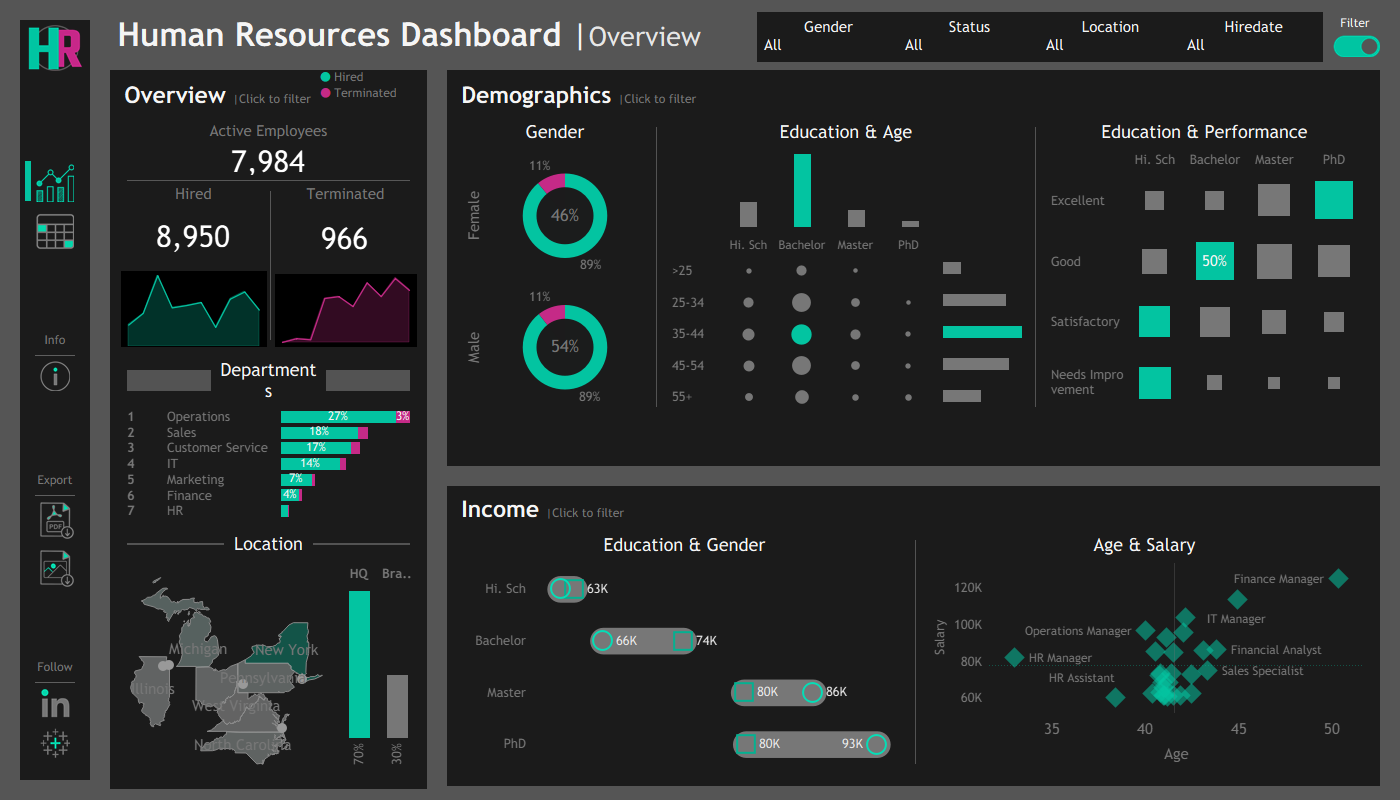

The page's visual inventory and layout, read from the dashboard file:
{"tool":"tableau","page":{"name":"HR Summary","canvas":[1400,800],"ordinal":1},"visuals":[{"type":"blank","box":[90,0,1309,253]},{"type":"text","box":[110,0,691,70]},{"type":"blank","box":[801,0,579,70]},{"type":"text","box":[1322,11,66,23]},{"type":"filter","title":"Gender vs Education level","param":"[federated.0gxnxt309b7uir1dyupve01mllud].[none:Gender:nk]","box":[758,13,141,48]},{"type":"filter","title":"Gender vs Education level","param":"[federated.0gxnxt309b7uir1dyupve01mllud].[none:Calculation_595882536475656192:nk","box":[899,13,141,48]},{"type":"filter","title":"Gender vs Education level","param":"[federated.0gxnxt309b7uir1dyupve01mllud].[none:Calculation_444167523388203008:nk","box":[1040,13,141,48]},{"type":"filter","title":"Gender vs Education level","param":"[federated.0gxnxt309b7uir1dyupve01mllud].[yr:Hiredate:ok]","box":[1181,13,141,48]},{"type":"image","param":"Image/Logo.png","box":[20,20,70,55]},{"type":"dashboard-object","box":[1333,22,47,48]},{"type":"text","box":[317,70,100,32]},{"type":"text","box":[117,77,303,35]},{"type":"text","box":[454,77,919,35]},{"type":"blank","box":[30,85,50,79.3]},{"type":"text","box":[117,112,303,32]},{"type":"text","box":[459,117,192,29]},{"type":"blank","box":[656,117,1,300]},{"type":"text","box":[662,117,368,29]},{"type":"blank","box":[1035,117,1,300]},{"type":"text","box":[1041,117,327,29]},{"type":"worksheet","title":"active","mark":"Automatic","box":[117,144,303,36]},{"type":"worksheet","title":"Gender","mark":"Pie","rows":["Gender"],"cols":["Calculation_444167523393875972","Calculation_444167523393875972"],"box":[459,146,192,271]},{"type":"worksheet","title":"Education Levels","mark":"Bar","rows":["Calculation_990228977867206656"],"cols":["Education Level"],"box":[662,146,368,85]},{"type":"worksheet","title":"Education vs Performance","mark":"Square","rows":["Performance Rating"],"cols":["Education Level"],"box":[1041,146,327,271]},{"type":"blank","box":[25,161,6,40]},{"type":"dashboard-object","box":[30,164.3,50,38]},{"type":"blank","box":[117,180,303,1]},{"type":"text","box":[117,181,153,26]},{"type":"blank","box":[270,181,1,169]},{"type":"text","box":[271,181,149,26]},{"type":"blank","box":[30,202.3,50,10]},{"type":"worksheet","title":"hired","mark":"Automatic","box":[117,207,153,60]},{"type":"worksheet","title":"terminated","mark":"Automatic","box":[271,207,149,63]},{"type":"dashboard-object","box":[30,212.3,50,38]},{"type":"worksheet","title":"Age vs education ","mark":"Circle","rows":["Calculation_444167523397791750"],"cols":["Education Level"],"box":[662,231,277,186]},{"type":"worksheet","title":"Age Groups","mark":"Bar","rows":["Calculation_444167523397791750"],"cols":["Calculation_990228977867206656"],"box":[939,231,91,186]},{"type":"blank","box":[30,250.3,50,79.3]},{"type":"text","box":[90,253,1309,297]},{"type":"worksheet","title":"hired by year","mark":"Automatic","rows":["Calculation_990228977867206656","Calculation_990228977867206656"],"cols":["Hiredate"],"box":[117,267,153,83]},{"type":"worksheet","title":"terminated by year","mark":"Automatic","rows":["Calculation_990228977867608065","Calculation_990228977867608065"],"cols":["Termdate"],"box":[271,270,149,80]},{"type":"text","box":[30,329.7,50,20]},{"type":"blank","box":[30,349.7,50,11]},{"type":"blank","box":[127,355,84,50]},{"type":"text","box":[211,355,115,50]},{"type":"blank","box":[326,355,84,50]},{"type":"dashboard-object","box":[30,360.7,50,30]},{"type":"blank","box":[30,390.7,50,79.3]},{"type":"worksheet","title":"Department","mark":"Bar","rows":["Department"],"cols":["Calculation_990228977867206656"],"box":[117,405,303,118]},{"type":"text","box":[30,470,50,20]},{"type":"blank","box":[30,490,50,11]},{"type":"text","box":[454,493,919,32]},{"type":"dashboard-object","box":[30,501,50,38]},{"type":"blank","box":[127,528,97,32]},{"type":"text","box":[224,528,89,32]},{"type":"blank","box":[313,528,97,32]},{"type":"text","box":[459,530,451,29]},{"type":"blank","box":[915,530,1,244]},{"type":"text","box":[921,530,447,29]},{"type":"blank","box":[30,539,50,10]},{"type":"dashboard-object","box":[30,549,50,38]},{"type":"blank","box":[90,550,1309,250]},{"type":"worksheet","title":"Gender vs Education level","mark":"Square","rows":["Education Level"],"cols":["Salary","Salary"],"box":[459,559,451,215]},{"type":"worksheet","title":"Age vs Salary","mark":"Shape","rows":["Salary"],"cols":["Calculation_444167523397025797"],"box":[921,559,447,215]},{"type":"worksheet","title":"Map Location","mark":"Automatic","box":[117,560,218.8,222]},{"type":"worksheet","title":"Location","mark":"Bar","rows":["Calculation_990228977867206656"],"cols":["Calculation_444167523388203008","Calculation1"],"box":[335.8,560,84.2,222]},{"type":"blank","box":[30,587,50,70]},{"type":"text","box":[30,657,50,20]},{"type":"blank","box":[30,677,50,11]},{"type":"image","param":"Image/contact-linkedin.png","box":[30,688,50,30]},{"type":"blank","box":[30,718,50,10]},{"type":"image","param":"Image/contact-public.png","box":[30,728,50,30]}]}

Visuals, with their boxes in screenshot pixels (x1, y1, x2, y2), scaled from the page's 1400x800 canvas onto the 1400x800 screenshot:
blank: 90/0/1399/253
text: 110/0/801/70
blank: 801/0/1380/70
text: 1322/11/1388/34
"Gender vs Education level" filter: 758/13/899/61
"Gender vs Education level" filter: 899/13/1040/61
"Gender vs Education level" filter: 1040/13/1181/61
"Gender vs Education level" filter: 1181/13/1322/61
image: 20/20/90/75
dashboard-object: 1333/22/1380/70
text: 317/70/417/102
text: 117/77/420/112
text: 454/77/1373/112
blank: 30/85/80/164
text: 117/112/420/144
text: 459/117/651/146
blank: 656/117/657/417
text: 662/117/1030/146
blank: 1035/117/1036/417
text: 1041/117/1368/146
"active" worksheet: 117/144/420/180
"Gender" worksheet (Pie marks): 459/146/651/417
"Education Levels" worksheet (Bar marks): 662/146/1030/231
"Education vs Performance" worksheet (Square marks): 1041/146/1368/417
blank: 25/161/31/201
dashboard-object: 30/164/80/202
blank: 117/180/420/181
text: 117/181/270/207
blank: 270/181/271/350
text: 271/181/420/207
blank: 30/202/80/212
"hired" worksheet: 117/207/270/267
"terminated" worksheet: 271/207/420/270
dashboard-object: 30/212/80/250
"Age vs education " worksheet (Circle marks): 662/231/939/417
"Age Groups" worksheet (Bar marks): 939/231/1030/417
blank: 30/250/80/330
text: 90/253/1399/550
"hired by year" worksheet: 117/267/270/350
"terminated by year" worksheet: 271/270/420/350
text: 30/330/80/350
blank: 30/350/80/361
blank: 127/355/211/405
text: 211/355/326/405
blank: 326/355/410/405
dashboard-object: 30/361/80/391
blank: 30/391/80/470
"Department" worksheet (Bar marks): 117/405/420/523
text: 30/470/80/490
blank: 30/490/80/501
text: 454/493/1373/525
dashboard-object: 30/501/80/539
blank: 127/528/224/560
text: 224/528/313/560
blank: 313/528/410/560
text: 459/530/910/559
blank: 915/530/916/774
text: 921/530/1368/559
blank: 30/539/80/549
dashboard-object: 30/549/80/587
blank: 90/550/1399/799
"Gender vs Education level" worksheet (Square marks): 459/559/910/774
"Age vs Salary" worksheet (Shape marks): 921/559/1368/774
"Map Location" worksheet: 117/560/336/782
"Location" worksheet (Bar marks): 336/560/420/782
blank: 30/587/80/657
text: 30/657/80/677
blank: 30/677/80/688
image: 30/688/80/718
blank: 30/718/80/728
image: 30/728/80/758
